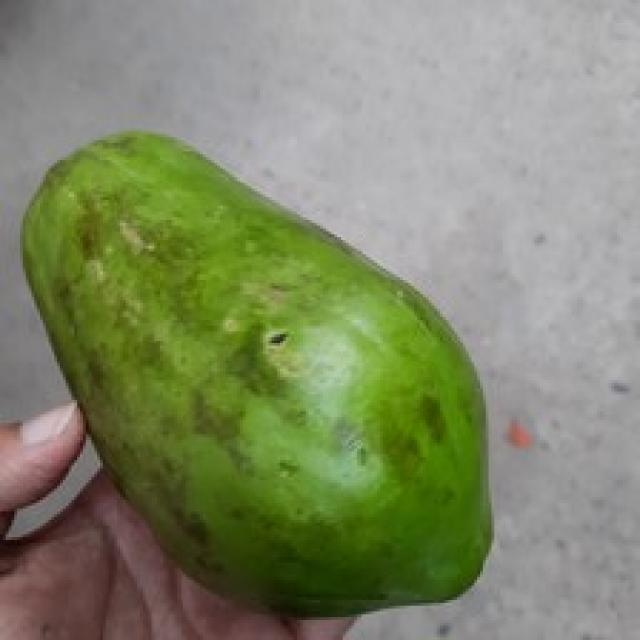Pepaya unrippen: (35, 134, 510, 615)
